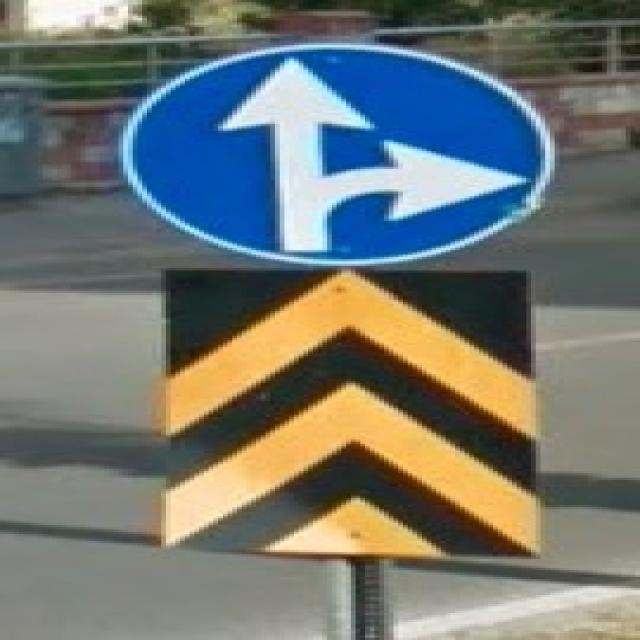Straight or Right: (117, 44, 563, 265)
